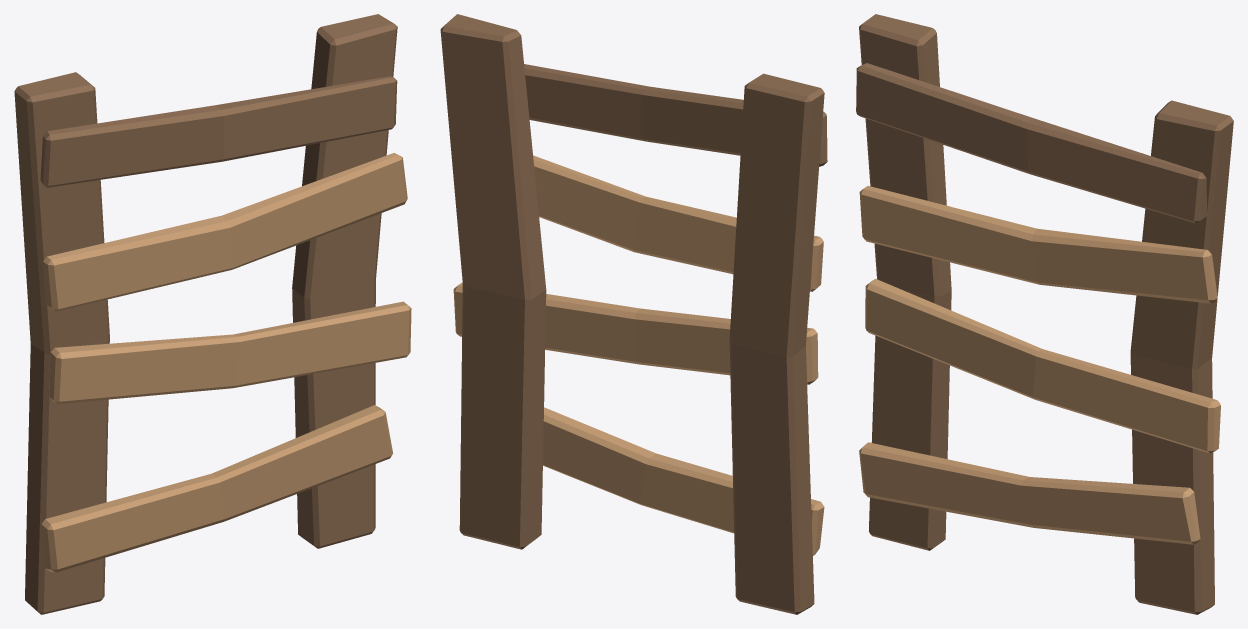
Rendered from wooden fence2.fbx.
3 renders of one model, left to right at view 1: azimuth 30°, elevation 25°; view 2: azimuth 150°, elevation 25°; view 3: azimuth 330°, elevation 25°, orthographic. The views are drawn at different scales.
Parts seen in each view (by area): view 1: wooden-fence.002; view 2: wooden-fence.002; view 3: wooden-fence.002.
Part boxes in pixels (box(x1,y1,x2,y2)): wooden-fence.002: box(14, 14, 411, 614); wooden-fence.002: box(440, 14, 827, 614); wooden-fence.002: box(856, 14, 1233, 614).
Size of the model in its own units: 1.93 by 2.57 by 0.2894.
